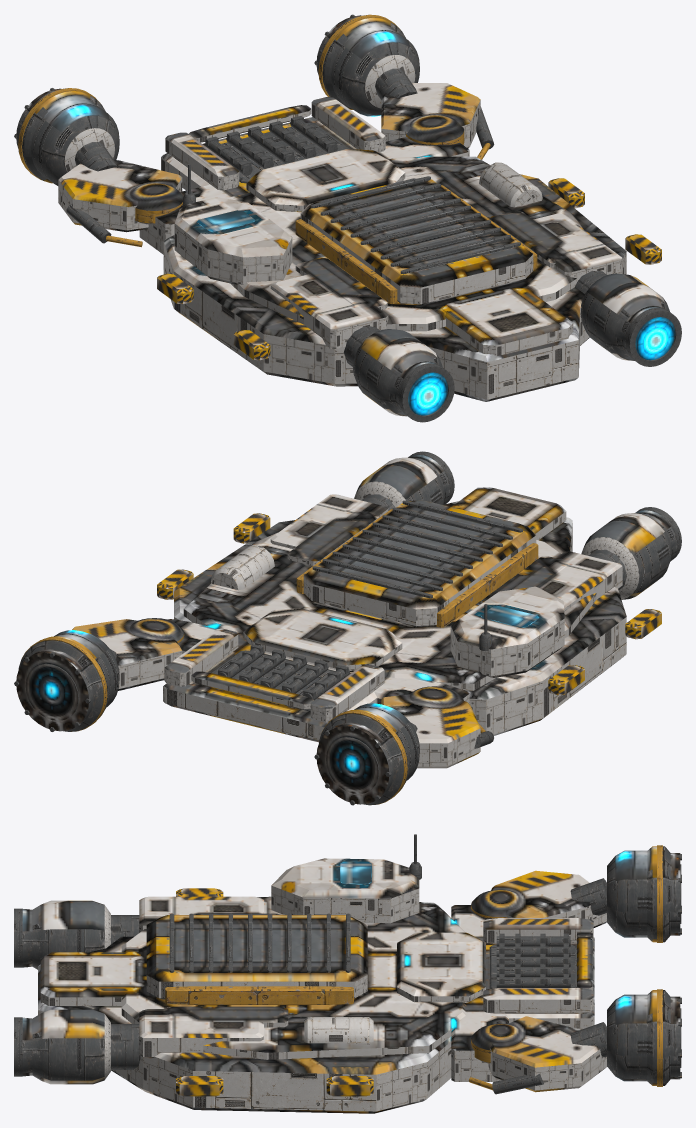
File: mining-barge.glb
3 renders of one model, top to bottom at view 1: azimuth 30°, elevation 25°; view 2: azimuth 150°, elevation 25°; view 3: azimuth 270°, elevation 25°, orthographic.
Parts seen in each view (by area): view 1: hull / Reference titanium and industrial fittings, hull / Ventral reference plating; view 2: hull / Reference titanium and industrial fittings, hull / Ventral reference plating; view 3: hull / Reference titanium and industrial fittings, hull / Ventral reference plating.
Part boxes in pixels (box(x1,y1,x2,y2)): hull / Reference titanium and industrial fittings: box(14, 14, 681, 422); hull / Ventral reference plating: box(29, 97, 634, 416); hull / Reference titanium and industrial fittings: box(14, 451, 681, 805); hull / Ventral reference plating: box(63, 578, 660, 805); hull / Reference titanium and industrial fittings: box(14, 834, 681, 1111); hull / Ventral reference plating: box(22, 921, 680, 1113).
Bounding box in the file's own units: 13.19 × 3.97 × 18.74.
2 materials, 2 textured.
